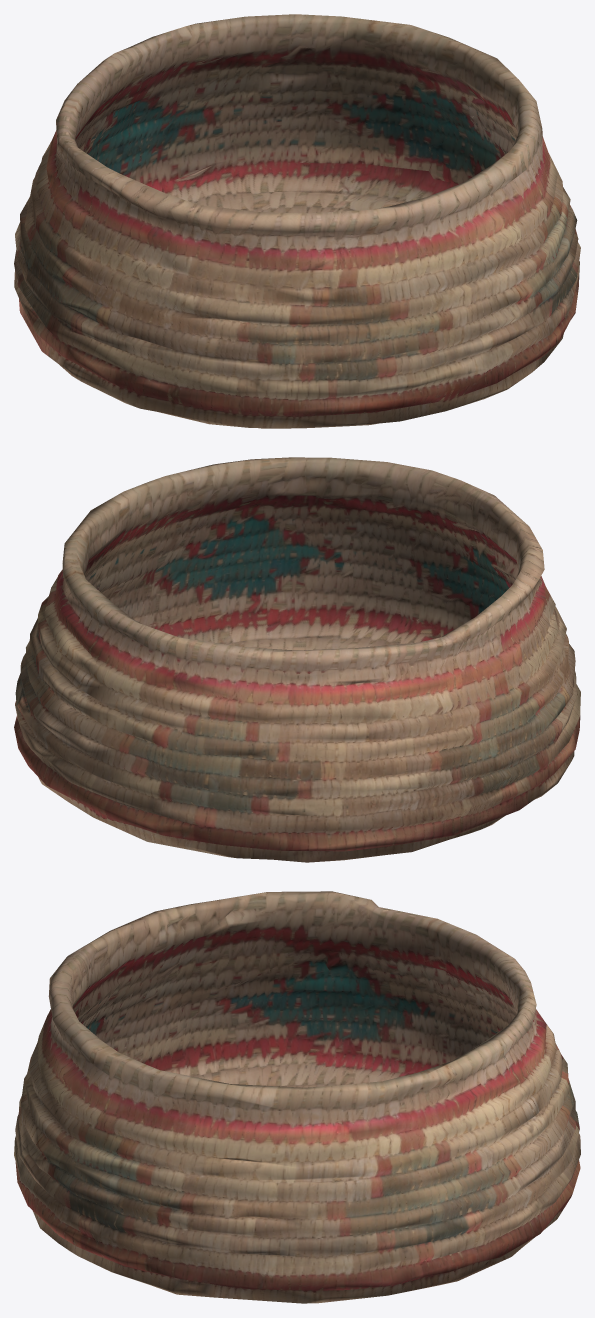
Rendered from historic_miscellaneous_basket_wicker_old_03_xdwjadj_mid_51_y3o8.glb.
3 renders of one model, top to bottom at view 1: azimuth 30°, elevation 25°; view 2: azimuth 150°, elevation 25°; view 3: azimuth 270°, elevation 25°, orthographic. The views are drawn at different scales.
Visible parts, largest first — view 1: xdwjadj_LOD2_TIER2; view 2: xdwjadj_LOD2_TIER2; view 3: xdwjadj_LOD2_TIER2.
Part boxes in pixels (x1,y1,x2,y2): xdwjadj_LOD2_TIER2: [14, 14, 580, 428]; xdwjadj_LOD2_TIER2: [14, 457, 580, 862]; xdwjadj_LOD2_TIER2: [14, 891, 580, 1303].
Bounding box in the file's own units: 0.2037 × 0.0997 × 0.2043.
1 material, 1 textured.
